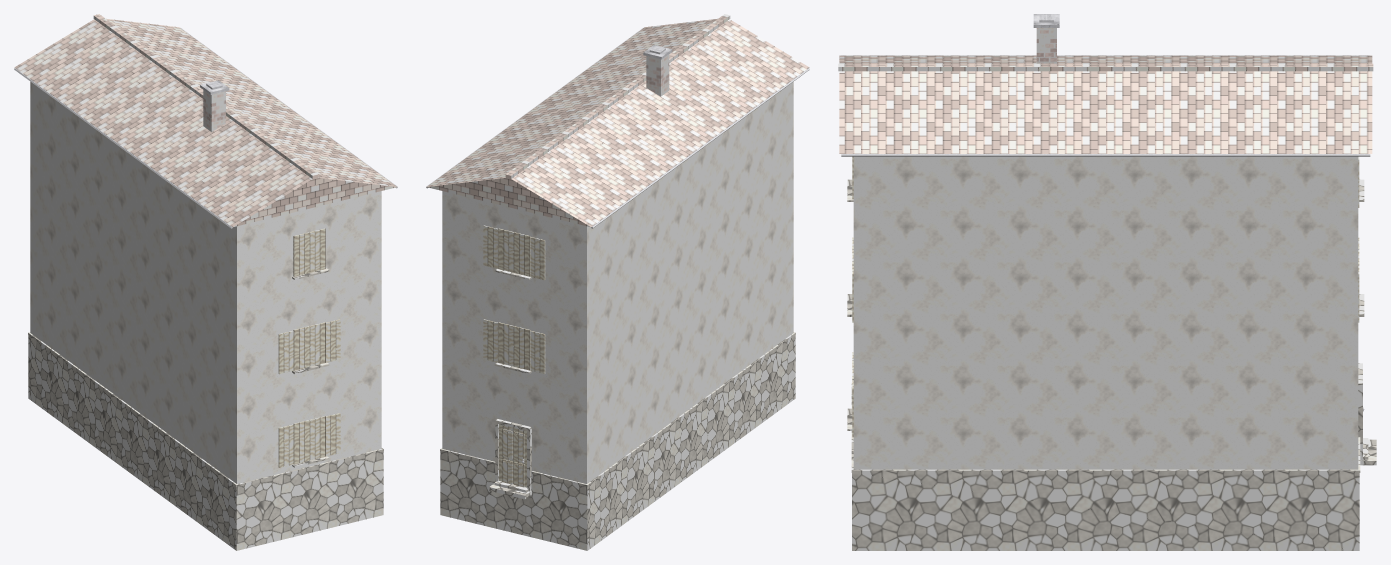
3 views of the same model, side by side, from view 1: azimuth 30°, elevation 25°; view 2: azimuth 150°, elevation 25°; view 3: azimuth 270°, elevation 25° (orthographic). The views are drawn at different scales.
Visible parts, largest first — view 1: b1088806812; view 2: b1088806812; view 3: b1088806812.
Boxes of the visible parts, x1,y1,x2,y2 form: b1088806812: [14, 14, 397, 550]; b1088806812: [426, 14, 809, 550]; b1088806812: [838, 14, 1376, 550].
Size of the model in its own units: 5.78 by 13.01 by 13.2.
Materials: 18 (18 with a texture image).
